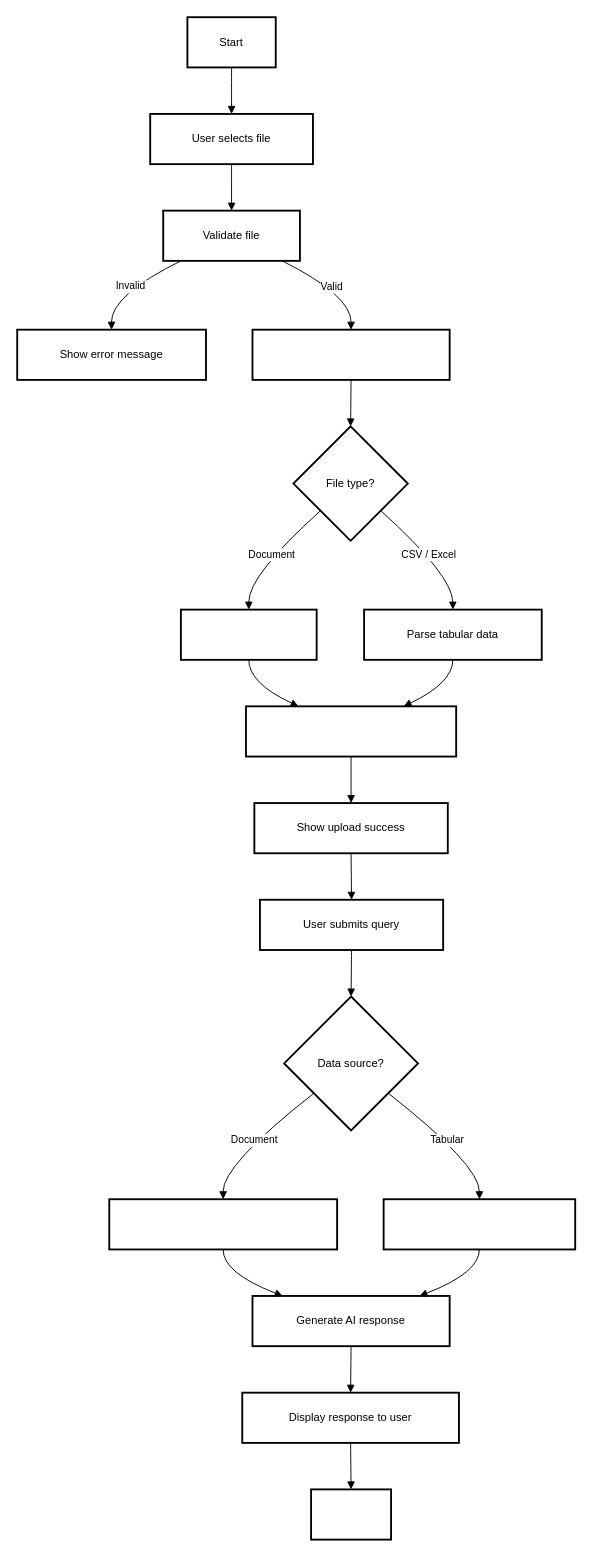
The diagram is 591 pixels wide and 1556 high, and some of its shapes have lost their labels. The shapes that lost their labels are listed below. From the top down, each one's centre as x and y in pixels, then its label:
At (x=350, y=354): "Upload file to system".
At (x=248, y=634): "Extract text".
At (x=351, y=731): "Process document data".
At (x=223, y=1224): "Retrieve relevant content".
At (x=479, y=1224): "Process tabular data".
At (x=351, y=1514): "End".
